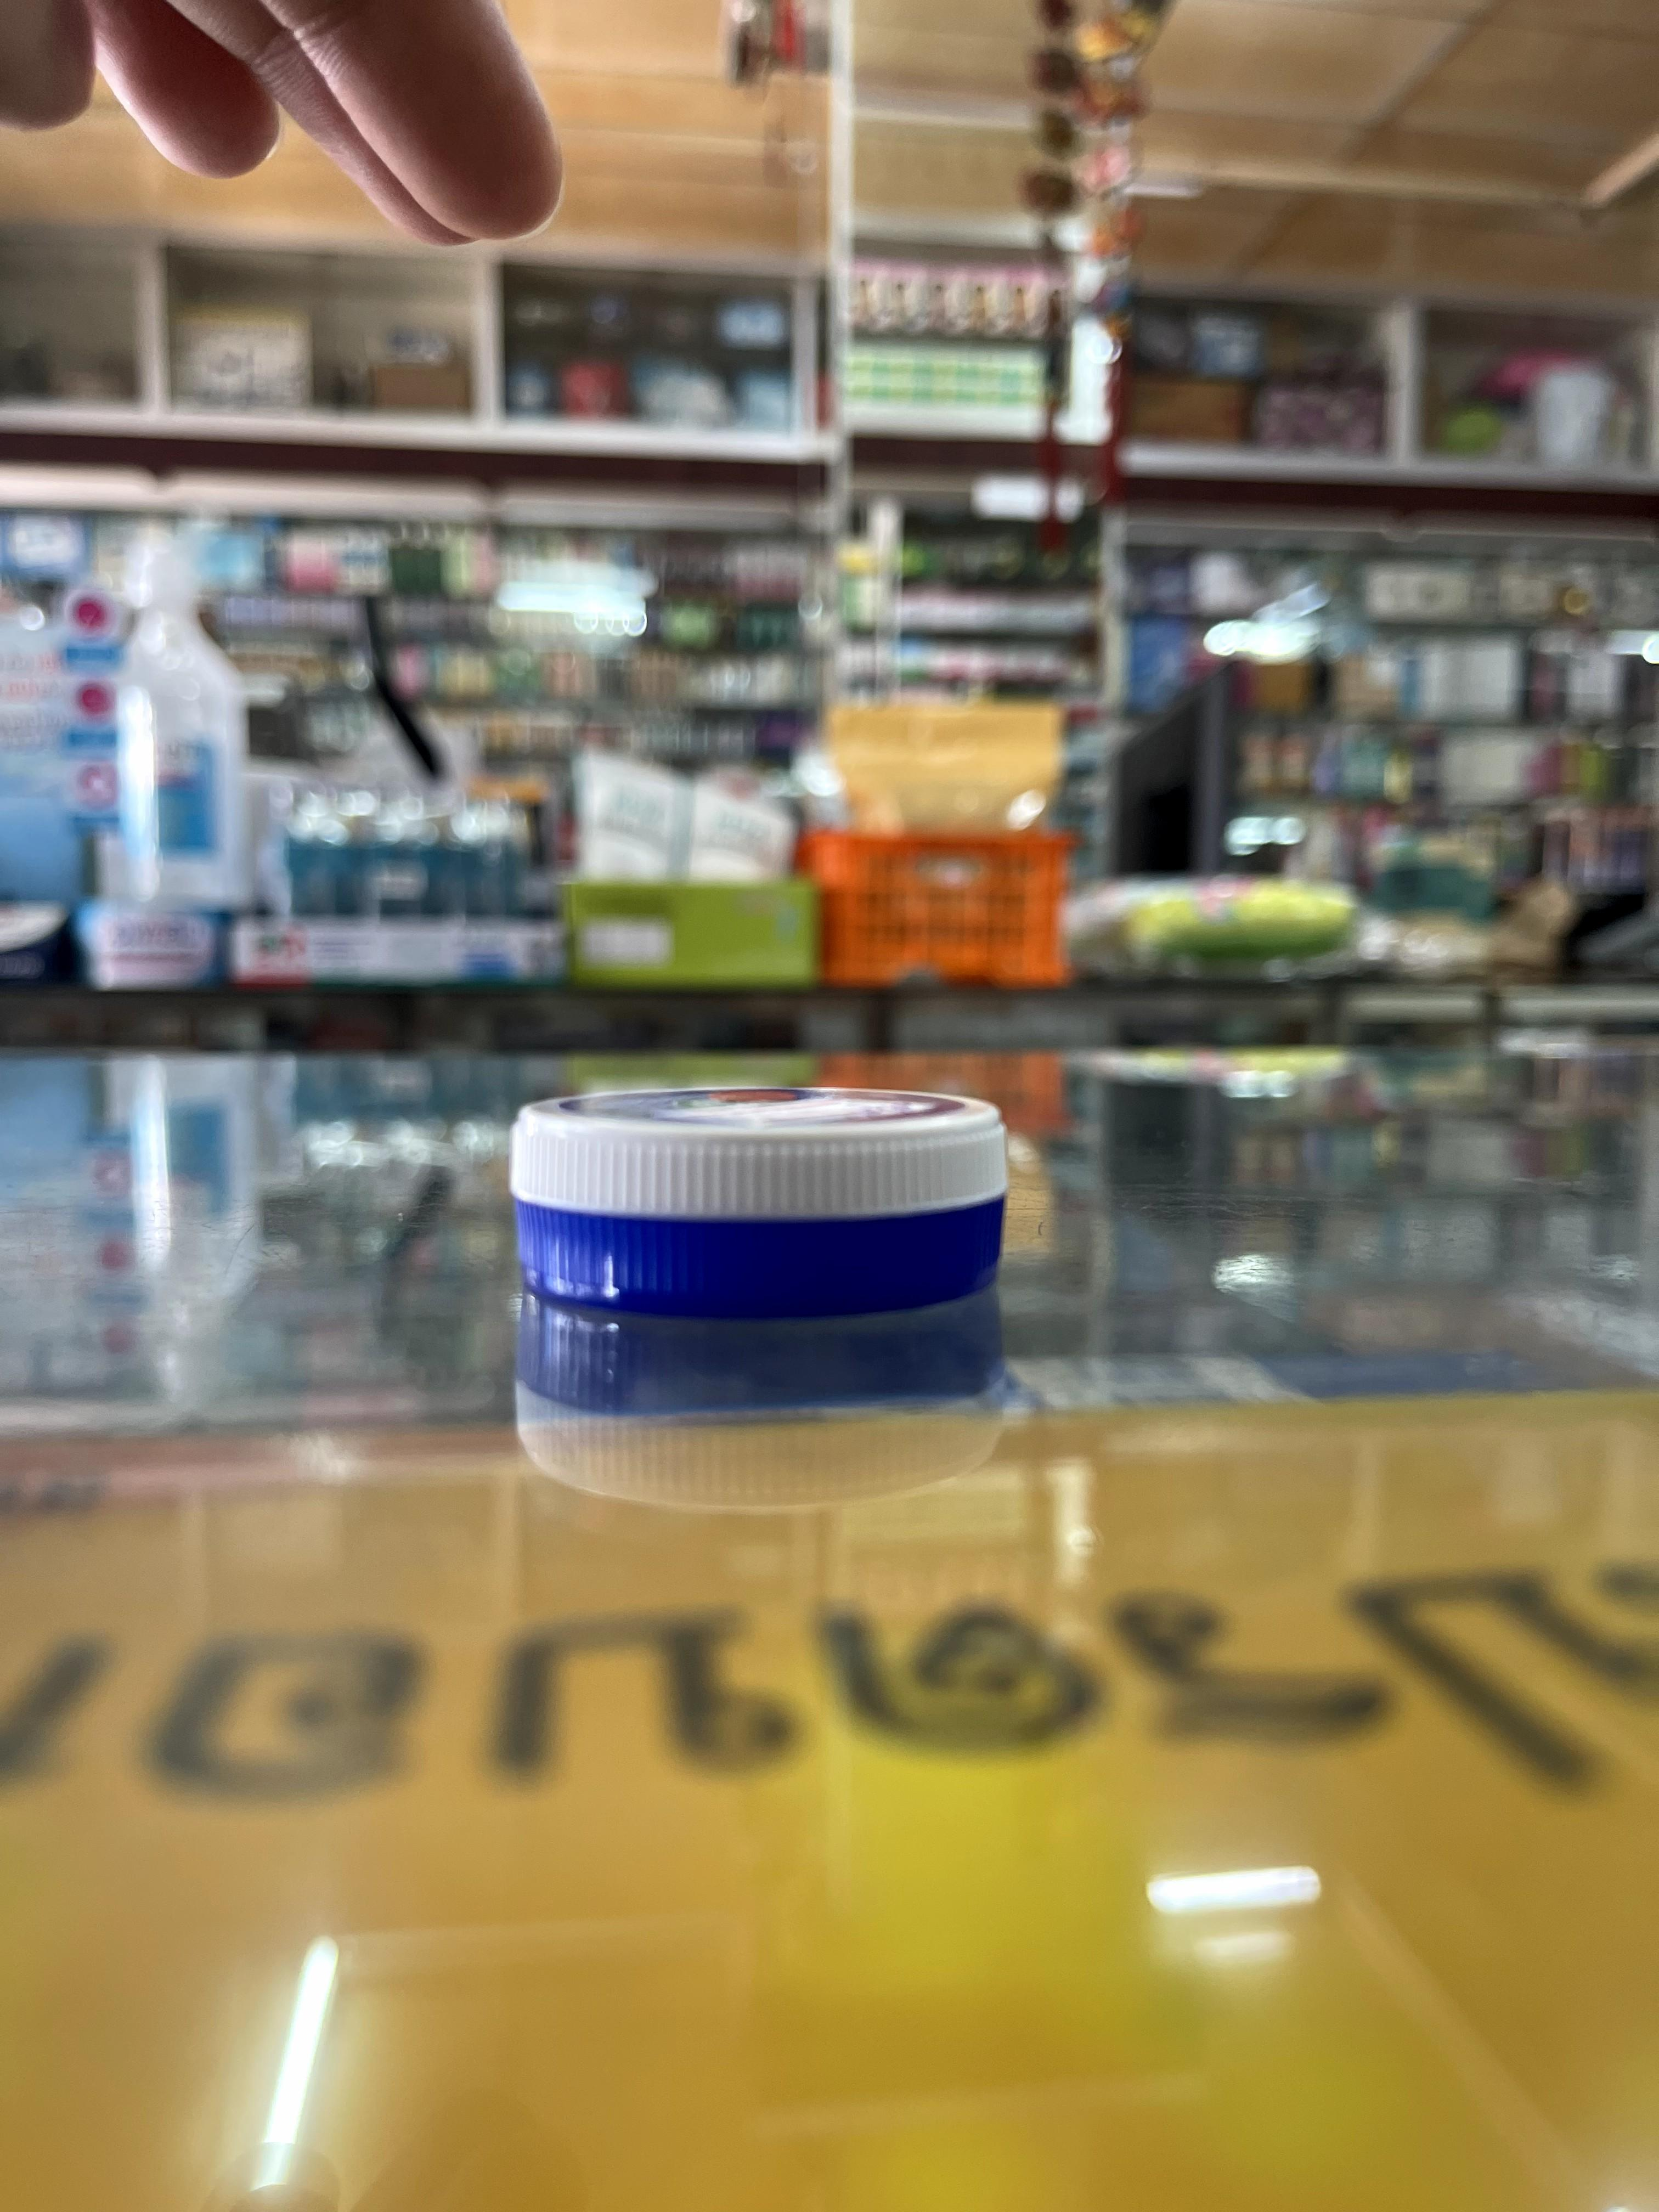VapoRub_Small: (525, 1089, 1012, 1312)
